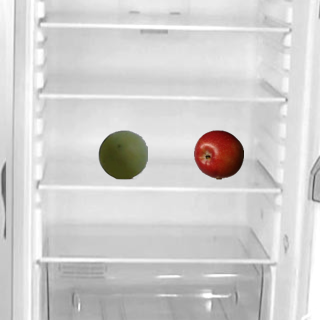Apple Braeburn: (193, 129, 243, 179)
Grape White 4: (97, 129, 147, 179)
